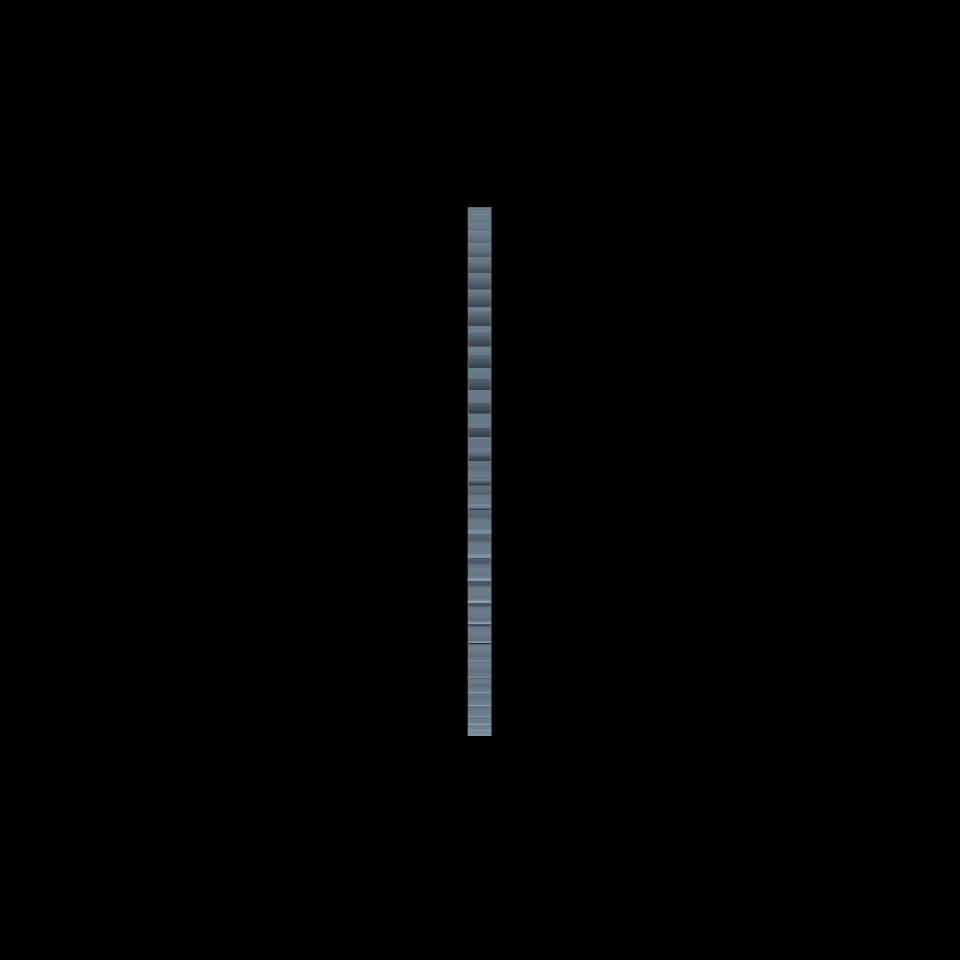Straight: (468, 206, 491, 733)
